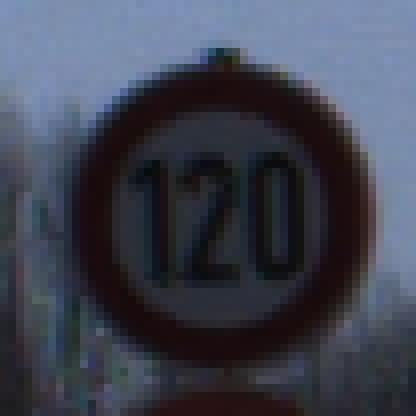Speed Limit 120: (78, 67, 370, 367)
